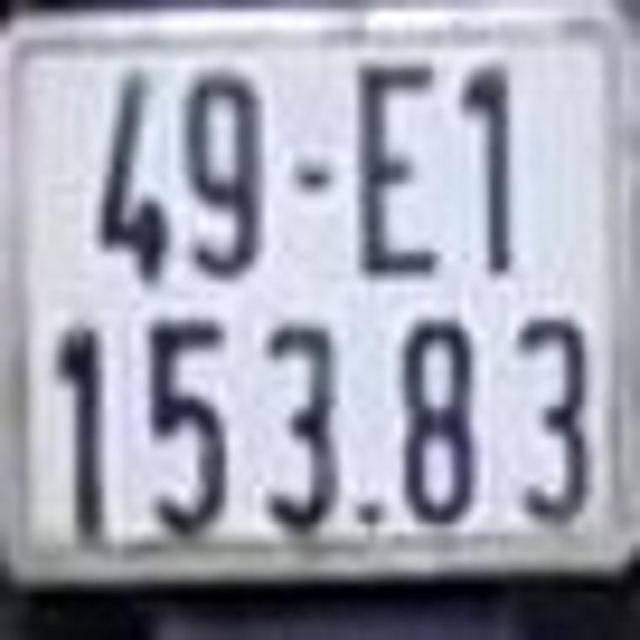1: (42, 316, 113, 546), (455, 52, 525, 276)
3: (250, 313, 345, 530), (511, 304, 596, 523)
4: (89, 58, 174, 287)
5: (140, 310, 230, 540)
8: (394, 307, 478, 527)
9: (181, 63, 268, 284)
E: (347, 49, 445, 287)
